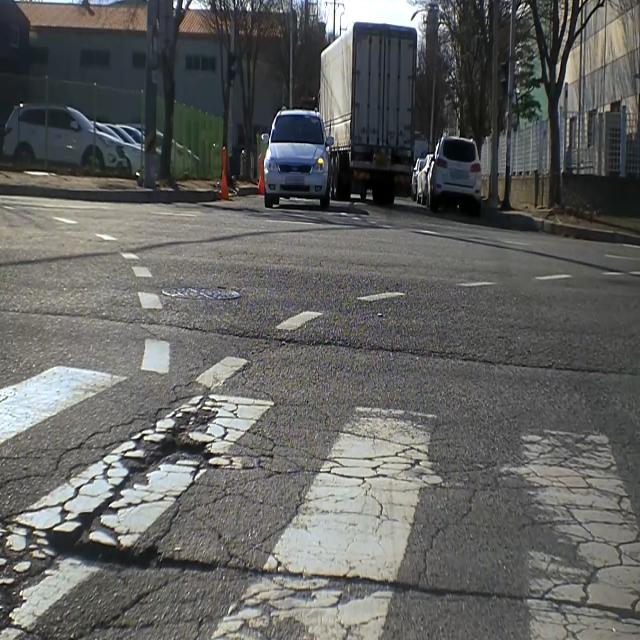Pothole: (41, 508, 217, 572), (128, 406, 224, 484)
